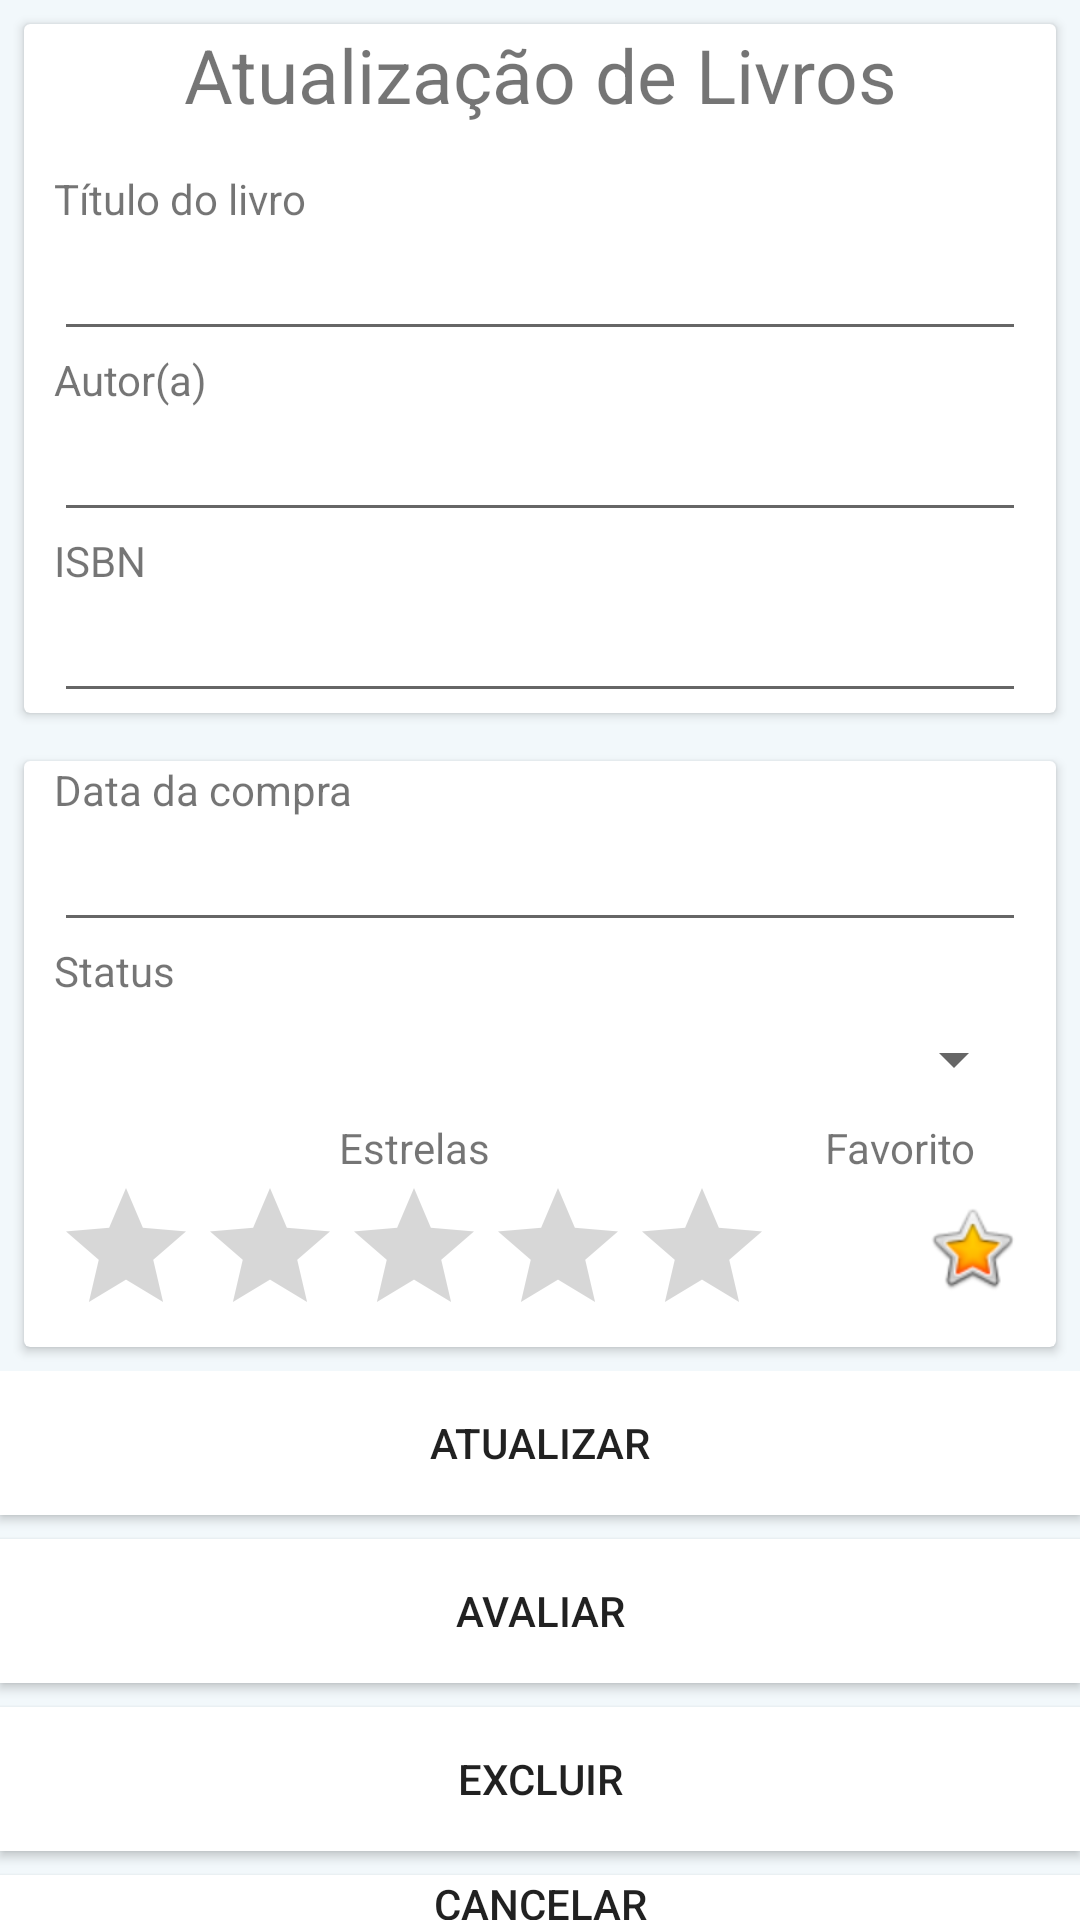

Icon click points for this 1080w x 1920h phone screenshot, format (x=x, y=y):
star on: (x=973, y=1249)
